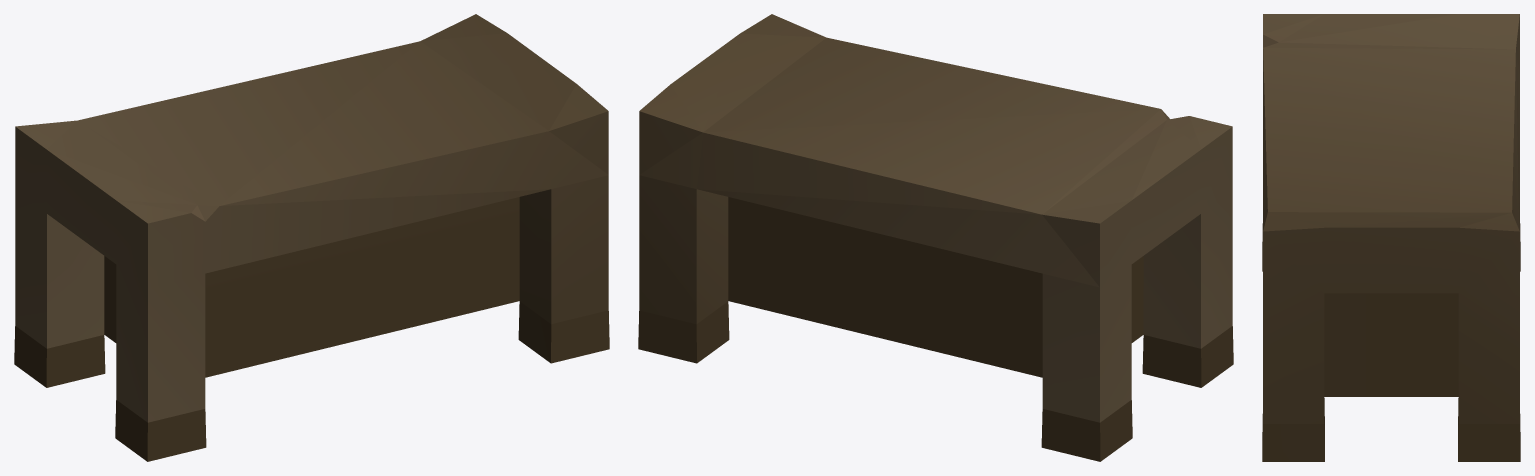
Rendered from MarketStall_Table_Flat.fbx.
The picture shows the model from 3 angles, left to right: view 1: azimuth 30°, elevation 25°; view 2: azimuth 150°, elevation 25°; view 3: azimuth 270°, elevation 25°; orthographic projection. The views are drawn at different scales.
Visible parts, largest first — view 1: MarketStall_Table_Flat; view 2: MarketStall_Table_Flat; view 3: MarketStall_Table_Flat.
Part boxes in pixels (box(x1,y1,x2,y2)): MarketStall_Table_Flat: box(14, 14, 609, 461); MarketStall_Table_Flat: box(638, 14, 1233, 461); MarketStall_Table_Flat: box(1262, 14, 1520, 461).
Size of the model in its own units: 1 by 0.5 by 0.5.
1 material, 1 textured.
